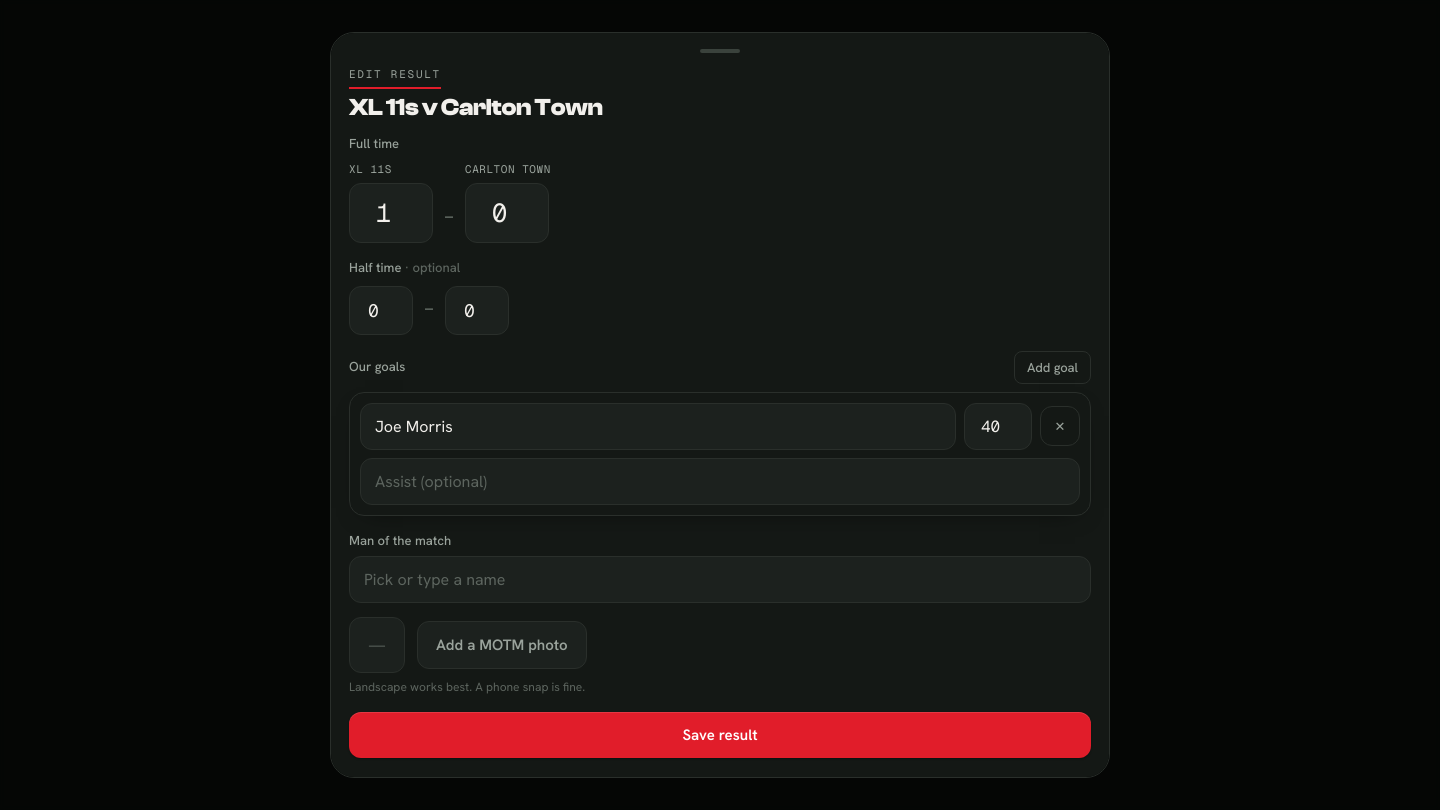
Test: ResultForm — a failed goals delete stops the save › no goals are re-inserted (they would double up) and the manager is told
Click the button "Save result" at (720, 735), box 349,712 -> 1091,758
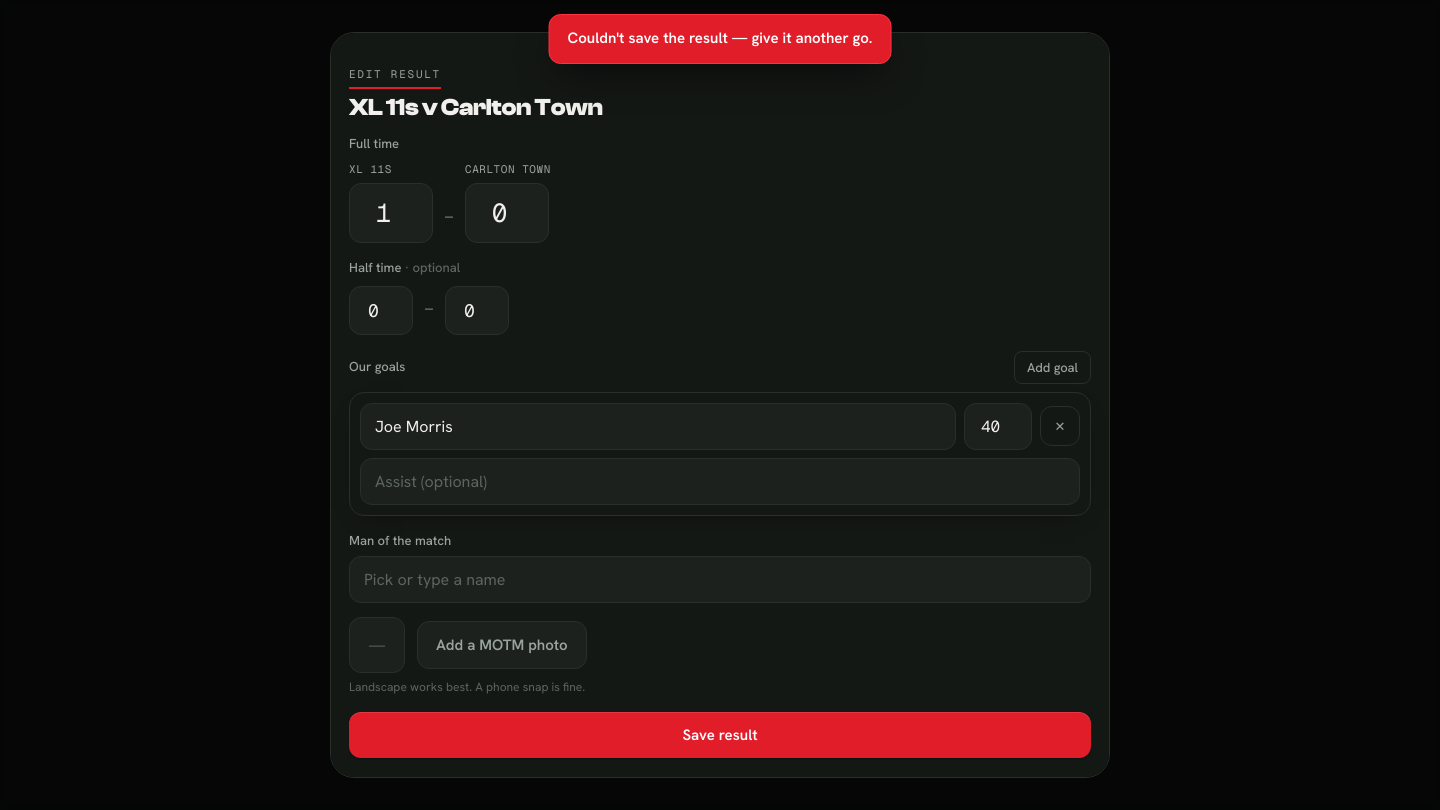
Expected: the message "Couldn't save the result — give it another go." is shown, 548,14 -> 891,64
